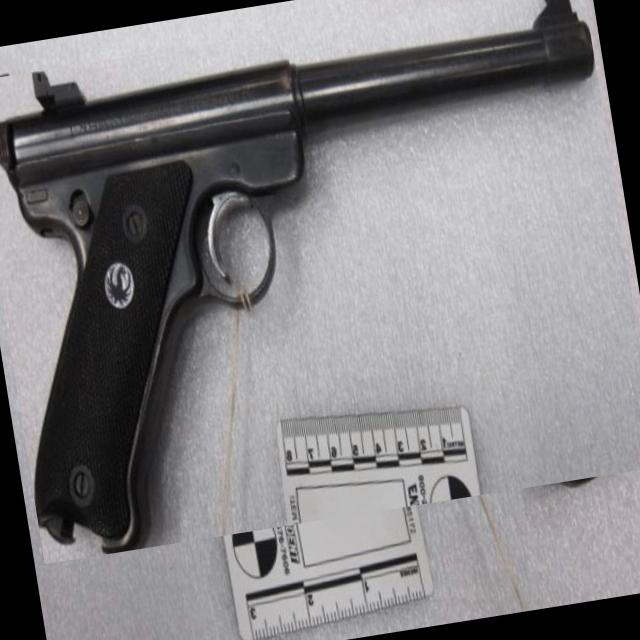Gun: (0, 0, 594, 553)
